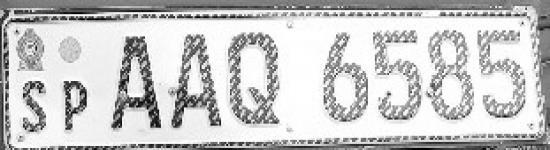5: (372, 28, 426, 125), (478, 27, 528, 124)
6: (308, 30, 371, 125)
8: (426, 27, 478, 123)
A: (108, 33, 167, 132), (169, 31, 223, 132)
P: (60, 79, 96, 136)
Q: (226, 31, 289, 129)
S: (14, 78, 58, 138)
